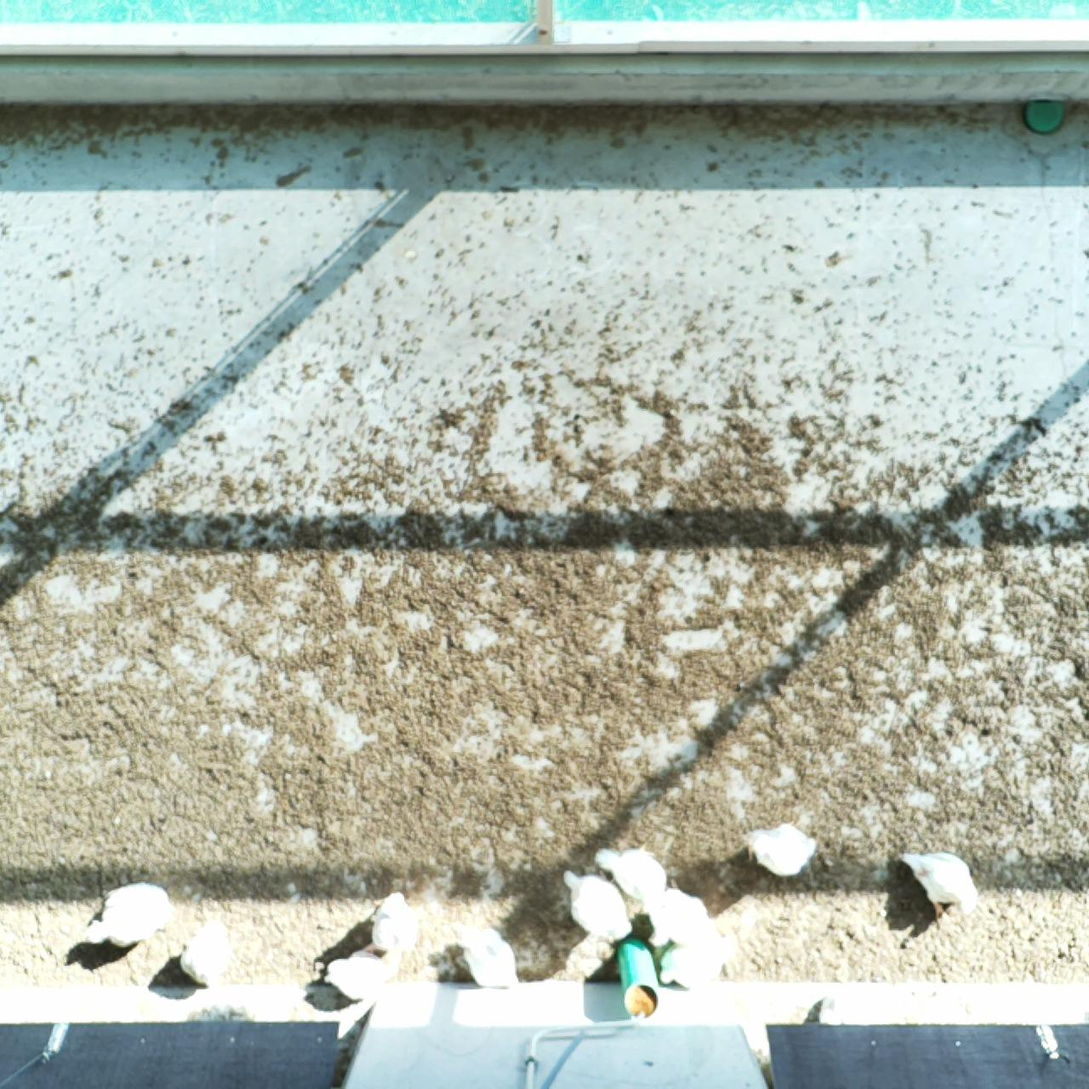chicken: (894, 845, 985, 931), (81, 878, 182, 951), (559, 865, 636, 945), (446, 918, 522, 995), (635, 887, 718, 951), (656, 932, 742, 991), (322, 940, 402, 1002), (594, 841, 672, 904), (739, 822, 820, 882), (178, 918, 239, 991), (369, 890, 423, 955)
